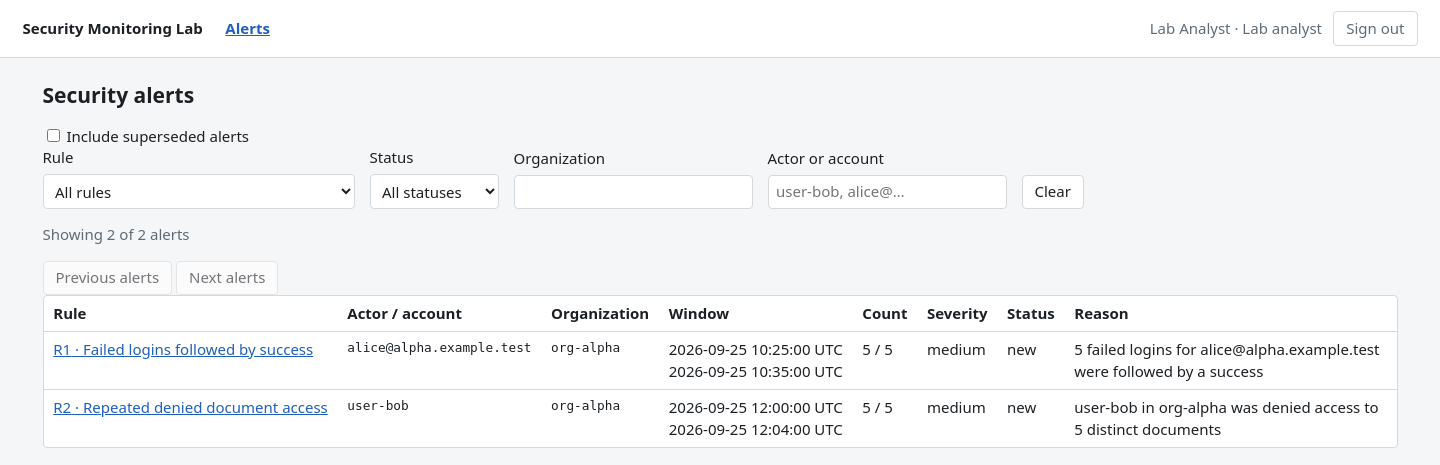
analyst investigation › filters alerts by rule and by actor or account
Expected: the text "Showing 2 of 2 alerts" is shown, [42, 224, 190, 244]
Select "R2 · Repeated denied document access" in the dropdown labelled "Rule" at point(198, 192), box [42, 174, 354, 209]
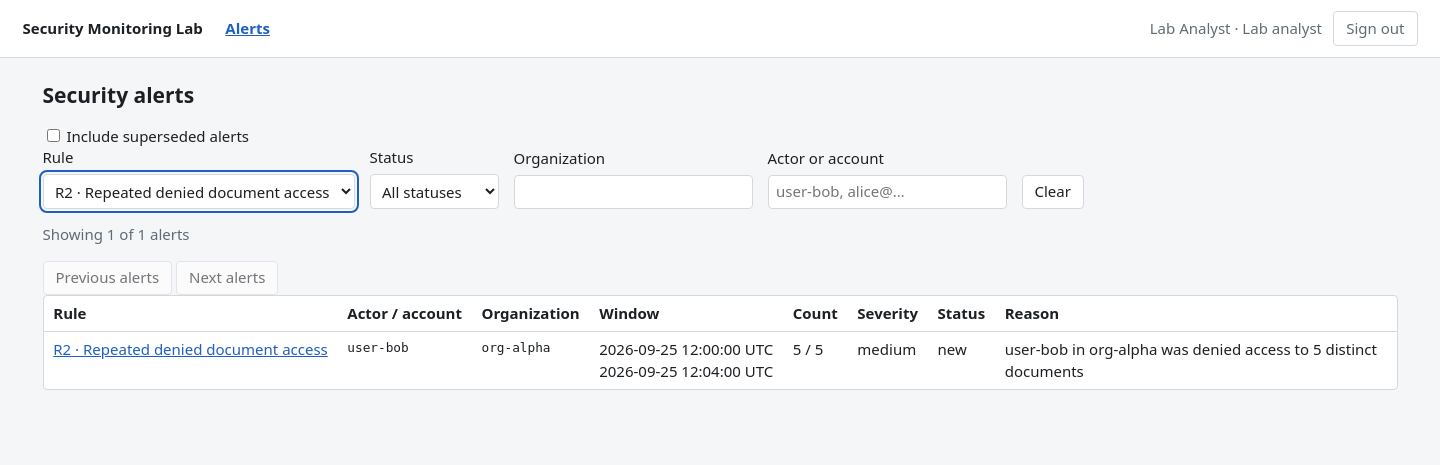
Expected: the text "user-bob" is shown, [338, 332, 472, 389]
Now the text "Showing 1 of 1 alerts" is shown, box [42, 224, 190, 244]
Click the button "Clear" at point(1053, 192), box [1022, 175, 1084, 209]
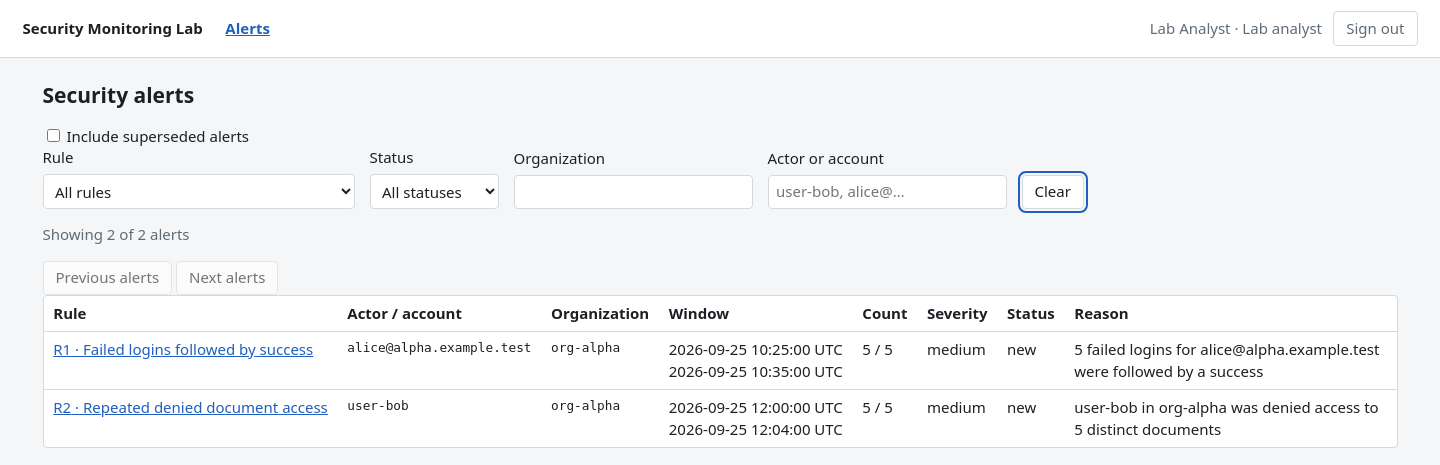
Type "ALICE@" into the search field labelled "Actor or account" at point(887, 192), box [768, 175, 1006, 209]
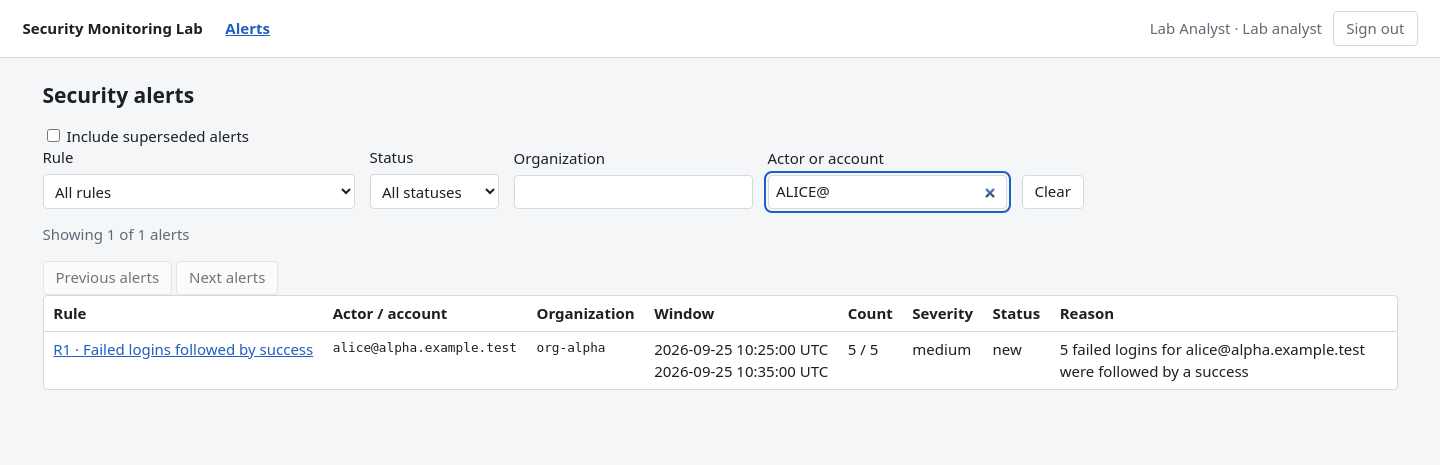
Now the text "alice@alpha.example.test" is shown, box [323, 332, 527, 389]
Now the text "Showing 1 of 1 alerts" is shown, box [42, 224, 190, 244]
